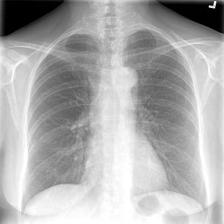normal: (16, 27, 211, 218)
